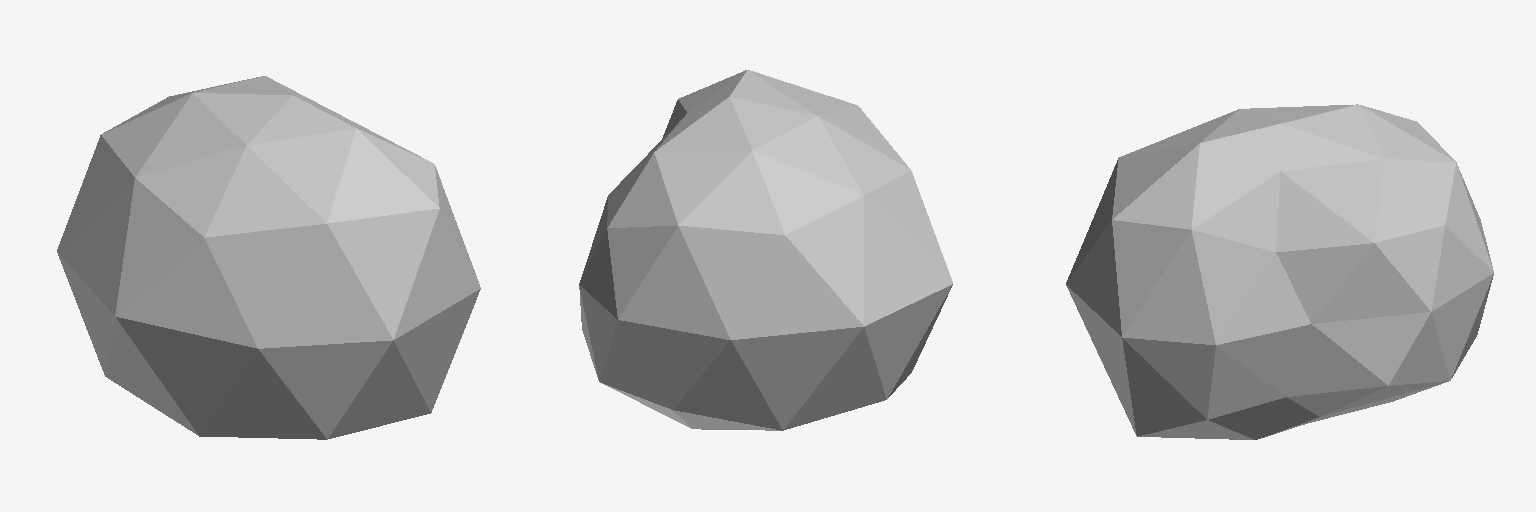
The model's file is Bush_4.obj.
3 renders of one model, left to right at view 1: azimuth 30°, elevation 25°; view 2: azimuth 150°, elevation 25°; view 3: azimuth 270°, elevation 25°, orthographic.
Parts seen in each view (by area): view 1: Icosphere.036_Icosphere.131; view 2: Icosphere.036_Icosphere.131; view 3: Icosphere.036_Icosphere.131.
Boxes of the visible parts, x1,y1,x2,y2 form: Icosphere.036_Icosphere.131: [57, 76, 480, 439]; Icosphere.036_Icosphere.131: [579, 70, 952, 430]; Icosphere.036_Icosphere.131: [1066, 104, 1493, 439].
Bounding box in the file's own units: 1.17 × 1.03 × 1.33.